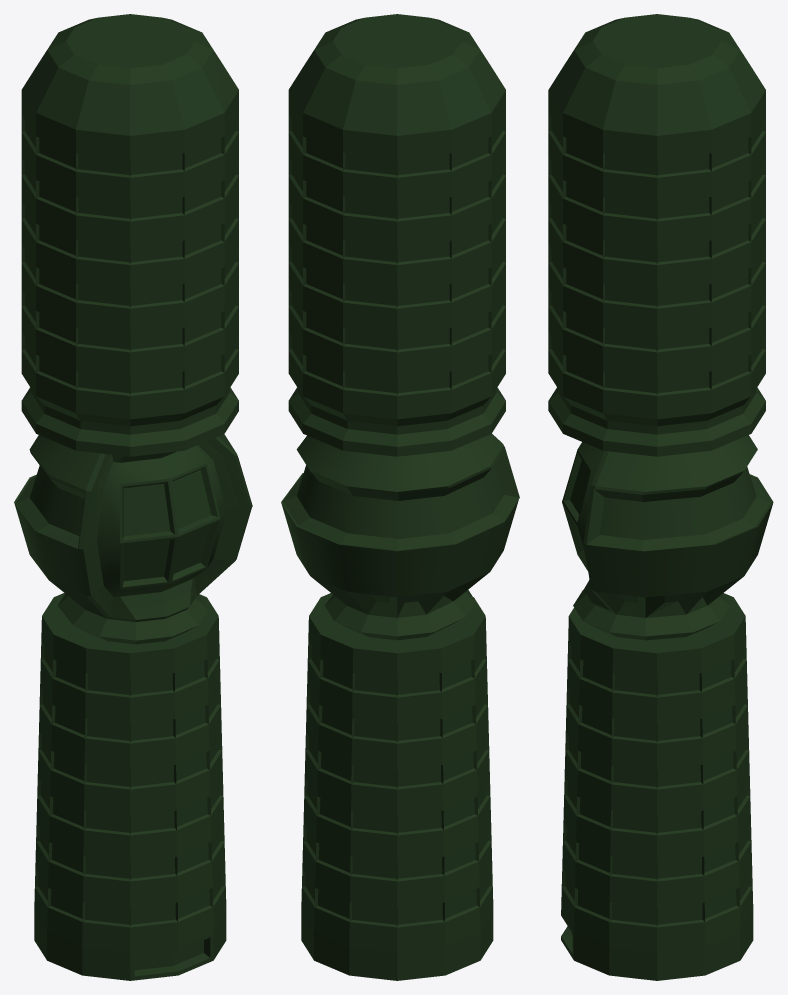
File: Scifi Pillar.FBX
The picture shows the model from 3 angles, left to right: view 1: azimuth 30°, elevation 25°; view 2: azimuth 150°, elevation 25°; view 3: azimuth 270°, elevation 25°; orthographic projection.
Visible parts, largest first — view 1: Scifi Pillar; view 2: Scifi Pillar; view 3: Scifi Pillar.
Boxes of the visible parts, bbox=[...] form: Scifi Pillar: bbox=[14, 14, 252, 980]; Scifi Pillar: bbox=[281, 14, 519, 980]; Scifi Pillar: bbox=[548, 14, 773, 980].
Bounding box in the file's own units: 33.57 × 143 × 32.48.
